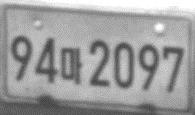0: (112, 41, 135, 89)
2: (88, 39, 111, 87)
4: (33, 35, 58, 84)
7: (162, 45, 184, 95)
9: (10, 35, 33, 82), (137, 44, 160, 91)
마: (59, 46, 84, 85)
